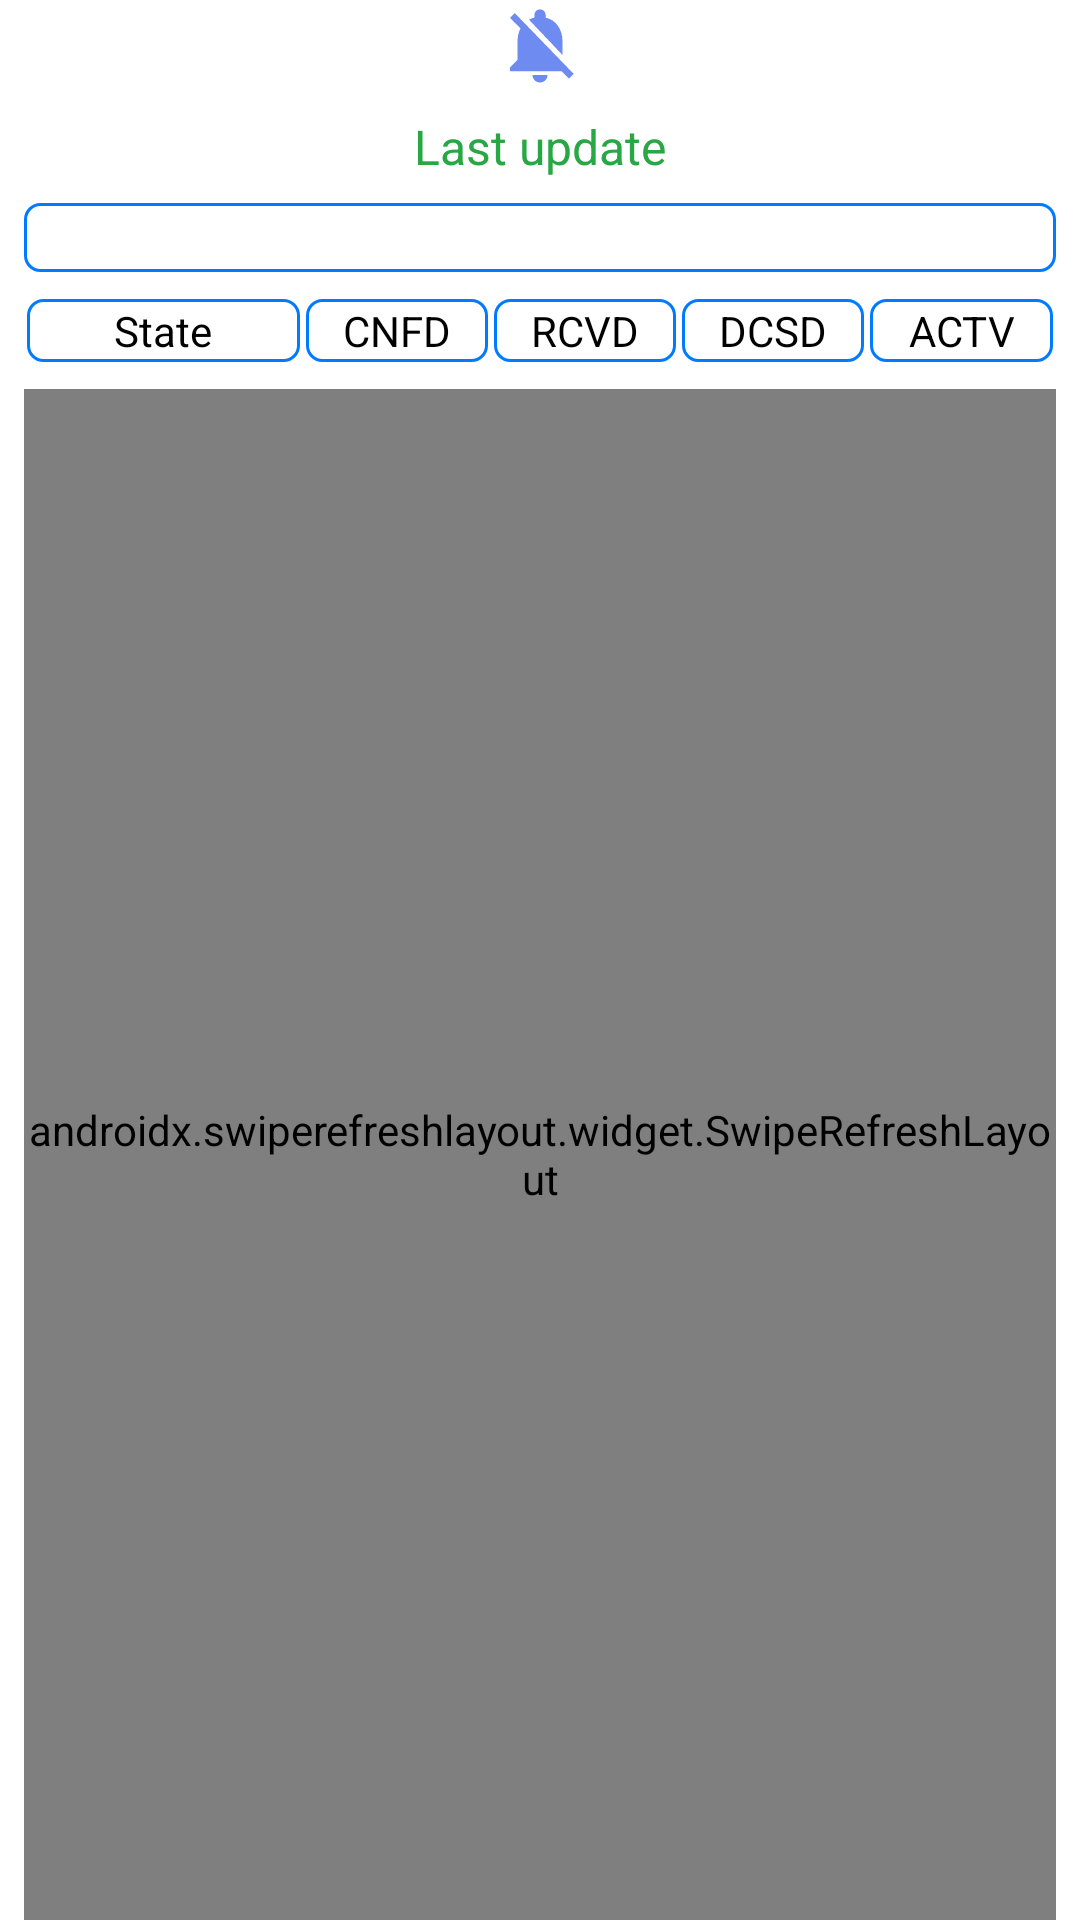

Locate icon controls on the screen. Image size 1080px x 1920px, boxes as BBox(x1, y1, x2, y2).
notificaion off: BBox(510, 9, 574, 83)
